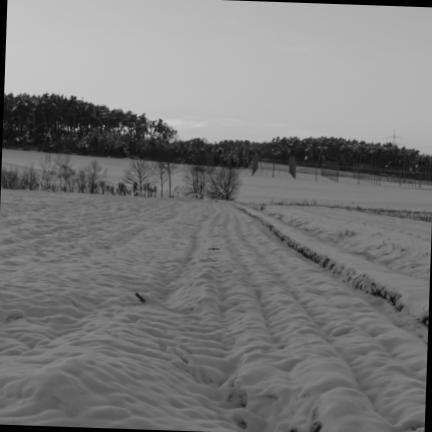Shahed: (206, 247, 221, 251)
